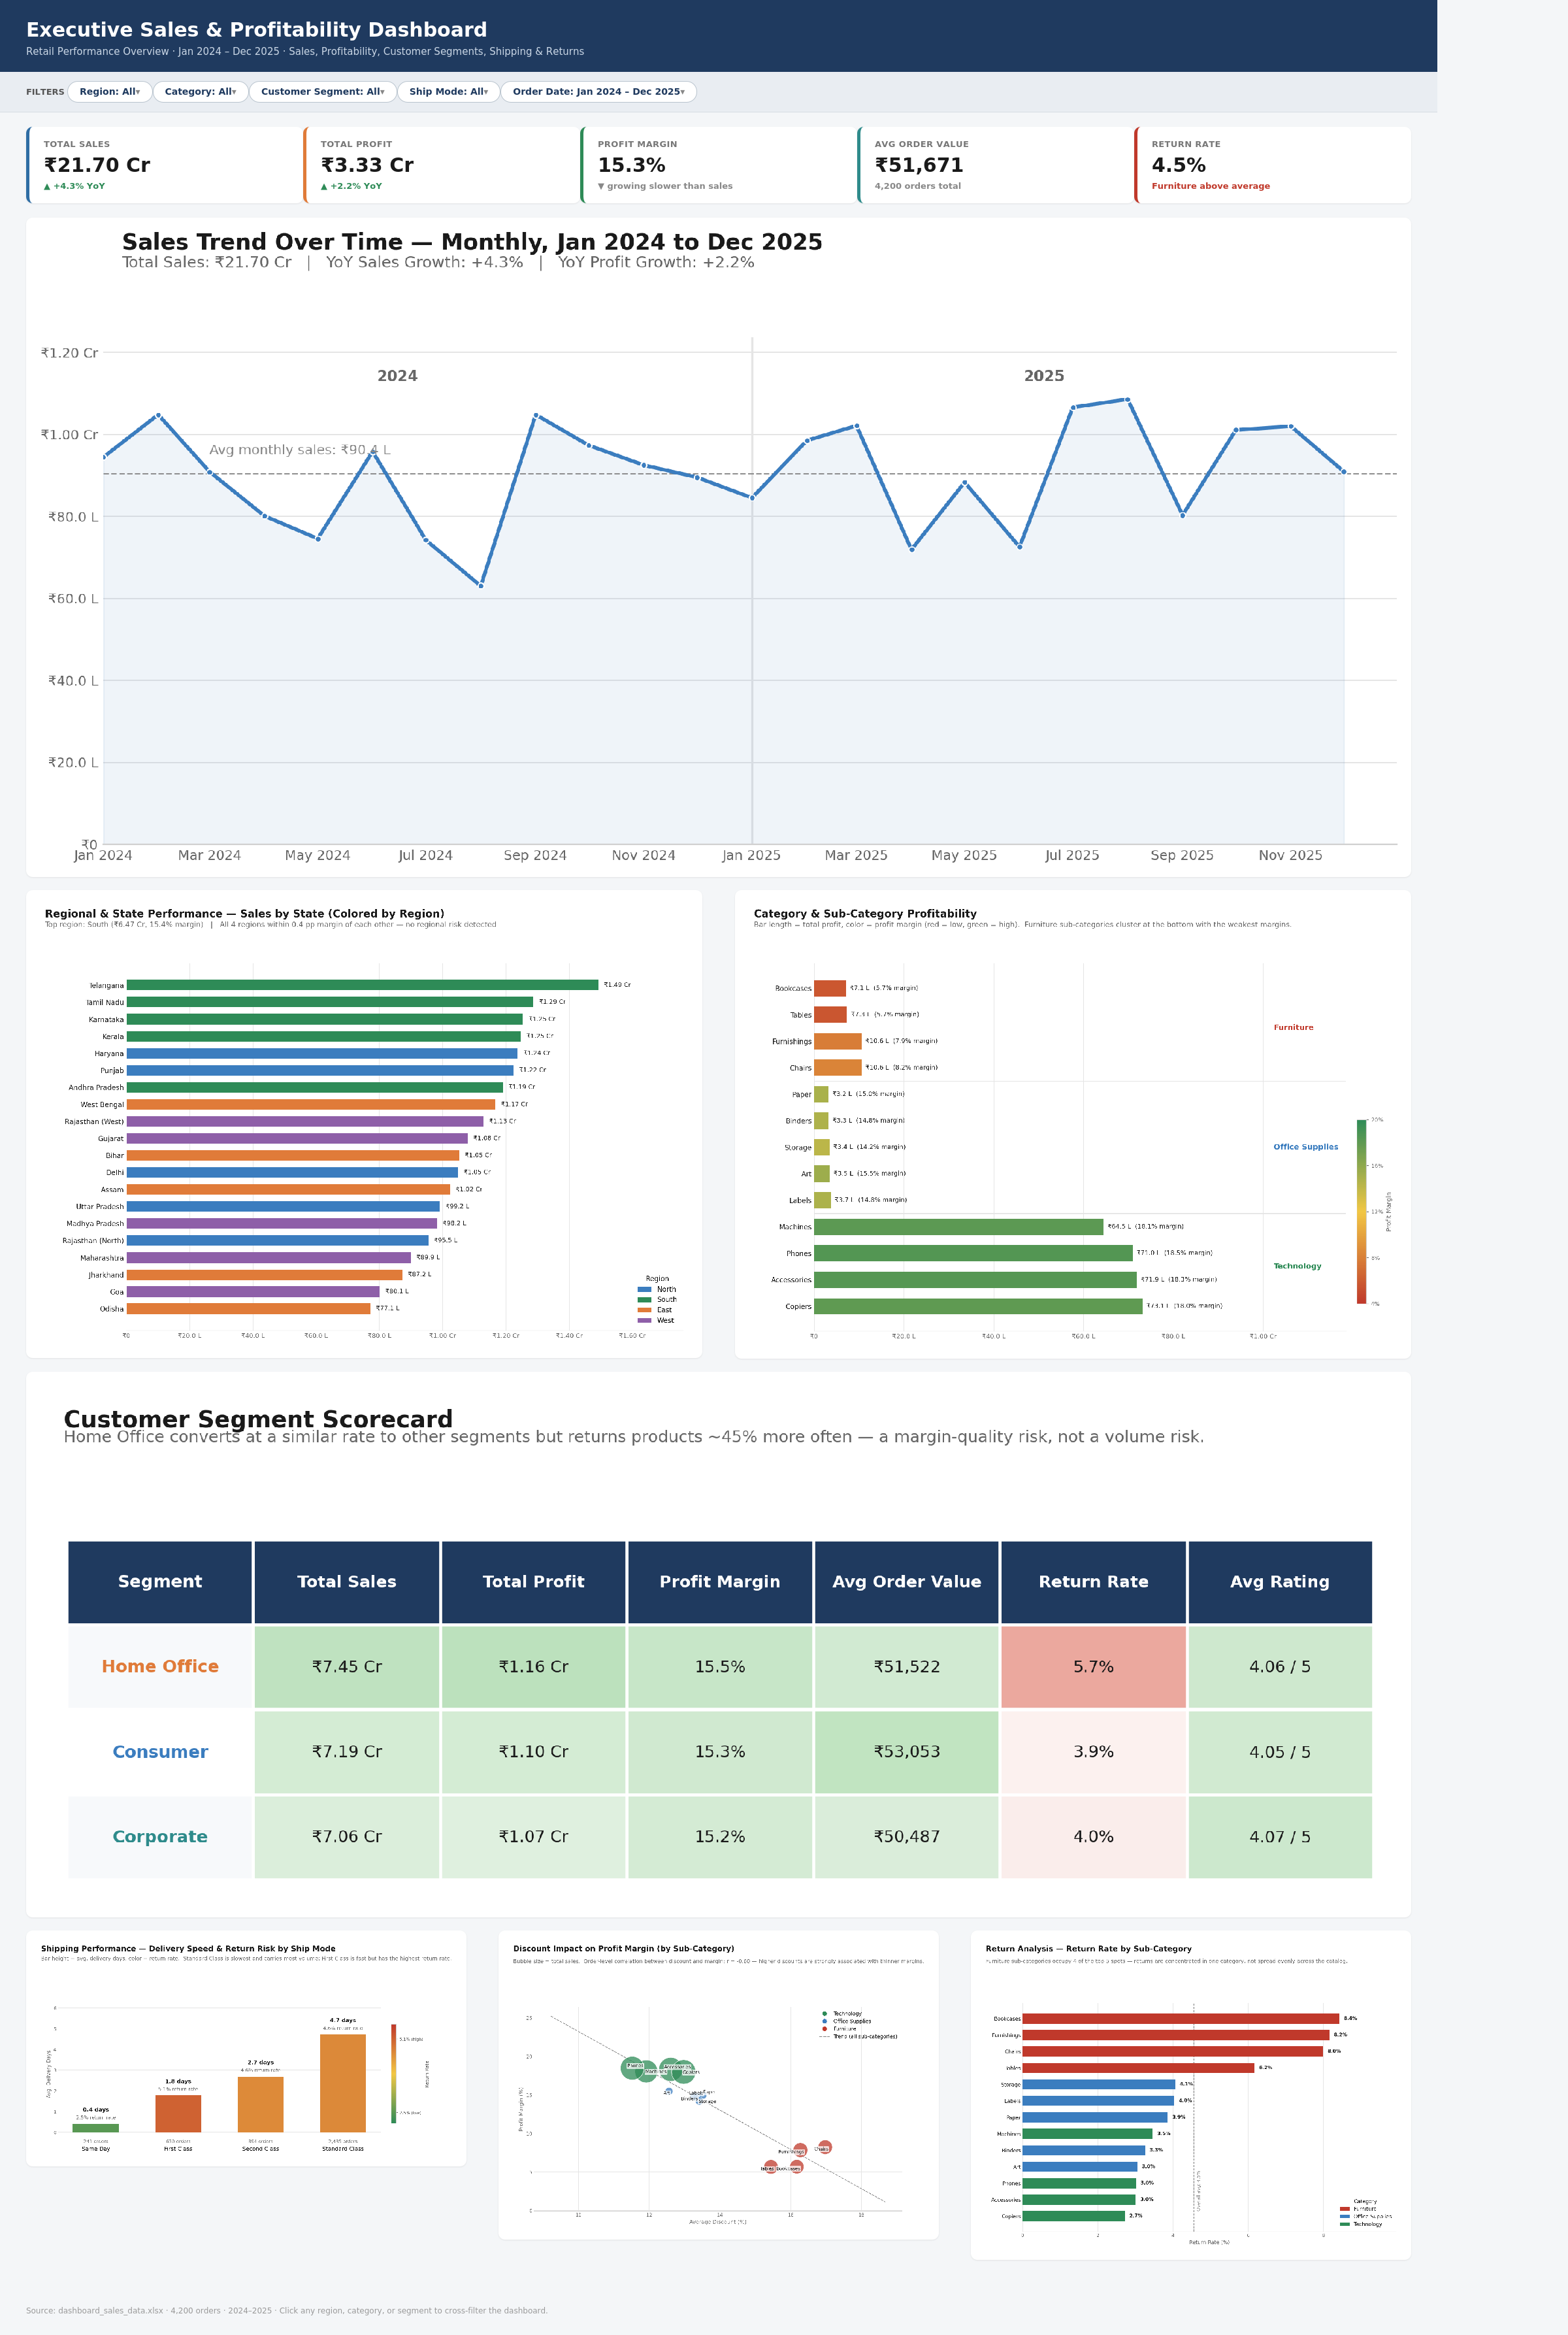

What the dashboard file says about the page in this screenshot:
{"tool":"tableau","page":{"name":"Executive Dashboard","canvas":[1000,1000],"units":"permille","ordinal":0},"visuals":[{"type":"text","box":[0,0,1000,60]},{"type":"filter","param":"[federated.0sd4200xyz01].[none:region:nk]","box":[0,60,200,50]},{"type":"filter","param":"[federated.0sd4200xyz01].[none:category:nk]","box":[200,60,200,50]},{"type":"filter","param":"[federated.0sd4200xyz01].[none:customer_segment:nk]","box":[400,60,200,50]},{"type":"filter","param":"[federated.0sd4200xyz01].[none:ship_mode:nk]","box":[600,60,200,50]},{"type":"filter","param":"[federated.0sd4200xyz01].[tmn:order_date:qk]","box":[800,60,200,50]},{"type":"worksheet","title":"KPI Total Sales","mark":"Text","box":[0,110,250,90]},{"type":"worksheet","title":"KPI Total Profit","mark":"Text","box":[250,110,250,90]},{"type":"worksheet","title":"KPI Profit Margin","mark":"Text","box":[500,110,250,90]},{"type":"worksheet","title":"KPI Return Rate","mark":"Text","box":[750,110,250,90]},{"type":"worksheet","title":"Sales Trend","mark":"Line","rows":["sales"],"cols":["order_date"],"box":[0,200,1000,220]},{"type":"worksheet","title":"Regional Performance","mark":"Bar","rows":["state"],"cols":["sales"],"box":[0,420,500,240]},{"type":"worksheet","title":"Category Profitability","mark":"Bar","rows":["category","sub_category"],"cols":["profit"],"box":[500,420,500,240]},{"type":"worksheet","title":"Customer Segment","mark":"Bar","rows":["customer_segment"],"cols":["sales"],"box":[0,660,1000,140]},{"type":"worksheet","title":"Shipping Performance","mark":"Bar","rows":["ship_mode"],"cols":["delivery_days"],"box":[0,800,333.3,200]},{"type":"worksheet","title":"Discount vs Profit","mark":"Circle","rows":["Calculation_ProfitMargin"],"cols":["discount"],"box":[333.3,800,333.3,200]},{"type":"worksheet","title":"Return Analysis","mark":"Bar","rows":["sub_category"],"cols":["Calculation_ReturnRate"],"box":[666.7,800,333.3,200]}]}

Visuals, with their boxes on the dashboard's canvas, which has no fixed pixel size, in thousandths of its width and height (x1, y1, x2, y2). These are canvas units, not pixel positions in the 1568x2335 screenshot, which may show the page scaled, cropped or inside an application window:
text: [x1=0, y1=0, x2=1000, y2=60]
filter: [x1=0, y1=60, x2=200, y2=110]
filter: [x1=200, y1=60, x2=400, y2=110]
filter: [x1=400, y1=60, x2=600, y2=110]
filter: [x1=600, y1=60, x2=800, y2=110]
filter: [x1=800, y1=60, x2=1000, y2=110]
"KPI Total Sales" worksheet (Text marks): [x1=0, y1=110, x2=250, y2=200]
"KPI Total Profit" worksheet (Text marks): [x1=250, y1=110, x2=500, y2=200]
"KPI Profit Margin" worksheet (Text marks): [x1=500, y1=110, x2=750, y2=200]
"KPI Return Rate" worksheet (Text marks): [x1=750, y1=110, x2=1000, y2=200]
"Sales Trend" worksheet (Line marks): [x1=0, y1=200, x2=1000, y2=420]
"Regional Performance" worksheet (Bar marks): [x1=0, y1=420, x2=500, y2=660]
"Category Profitability" worksheet (Bar marks): [x1=500, y1=420, x2=1000, y2=660]
"Customer Segment" worksheet (Bar marks): [x1=0, y1=660, x2=1000, y2=800]
"Shipping Performance" worksheet (Bar marks): [x1=0, y1=800, x2=333, y2=1000]
"Discount vs Profit" worksheet (Circle marks): [x1=333, y1=800, x2=667, y2=1000]
"Return Analysis" worksheet (Bar marks): [x1=667, y1=800, x2=1000, y2=1000]
